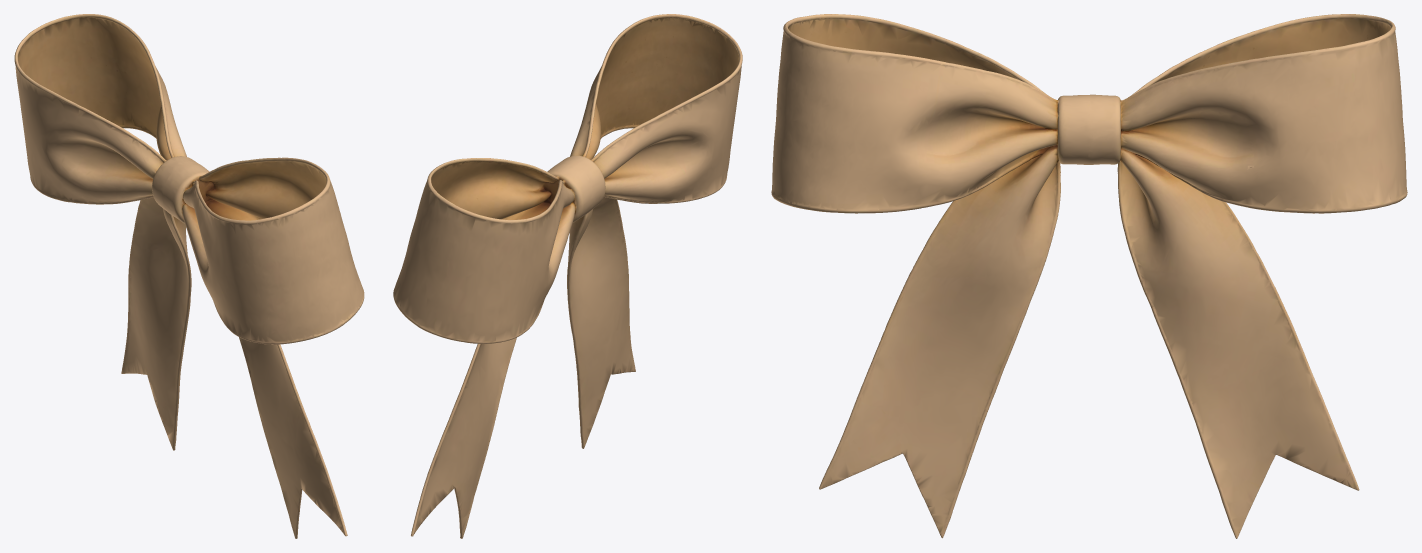
File: gold satin bow 3d model_opt.glb
The picture shows the model from 3 angles, left to right: view 1: azimuth 30°, elevation 25°; view 2: azimuth 150°, elevation 25°; view 3: azimuth 270°, elevation 25°; orthographic projection. The views are drawn at different scales.
Parts seen in each view (by area): view 1: tripo_node_dfd87fa5-e347-46bb-b745-84999ff5a683; view 2: tripo_node_dfd87fa5-e347-46bb-b745-84999ff5a683; view 3: tripo_node_dfd87fa5-e347-46bb-b745-84999ff5a683.
Boxes of the visible parts, x1=… form: tripo_node_dfd87fa5-e347-46bb-b745-84999ff5a683: x1=14, y1=14, x2=364, y2=538; tripo_node_dfd87fa5-e347-46bb-b745-84999ff5a683: x1=393, y1=14, x2=742, y2=538; tripo_node_dfd87fa5-e347-46bb-b745-84999ff5a683: x1=771, y1=14, x2=1407, y2=538.
Size of the model in its own units: 0.2993 by 0.841 by 0.9999.
Materials: 1 (1 with a texture image).
